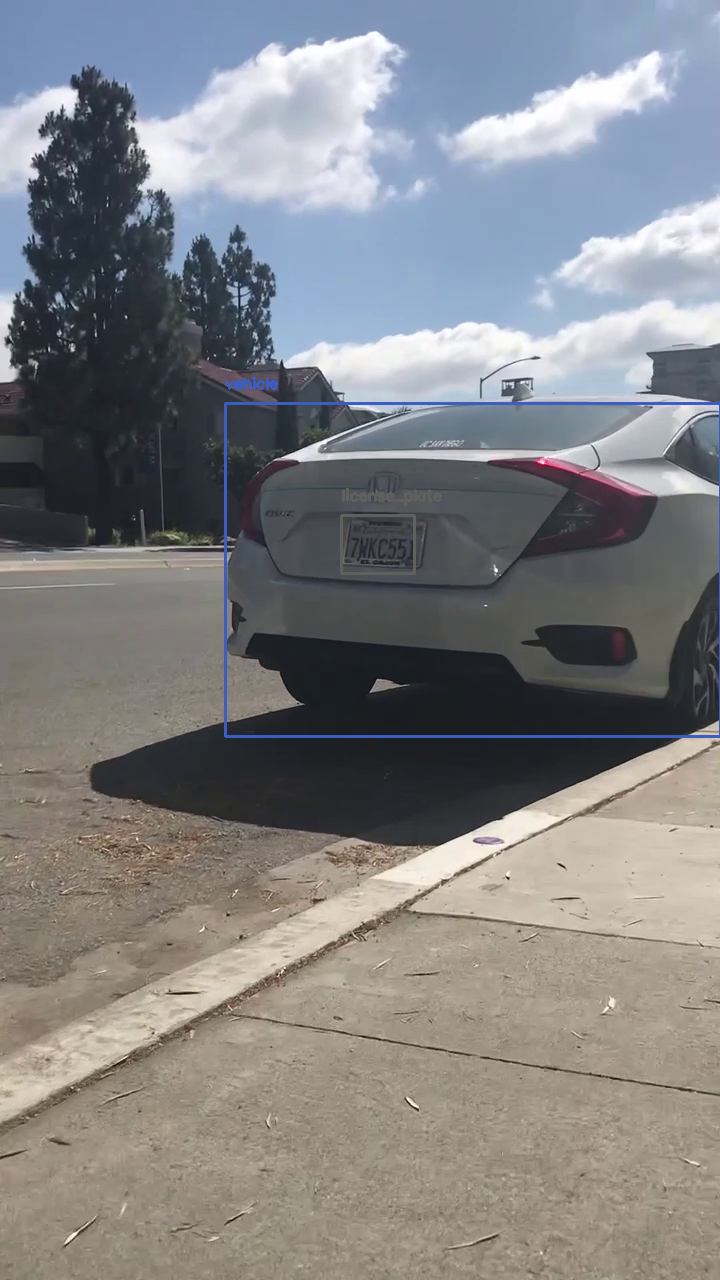license_plate: (341, 515, 414, 573)
vehicle: (225, 403, 720, 736)
